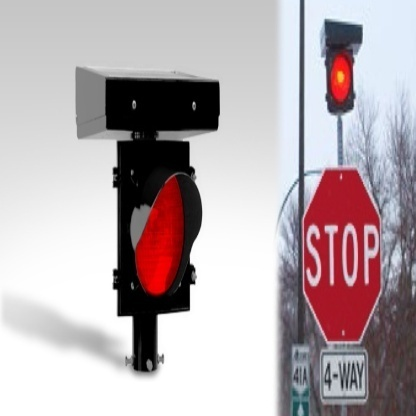stop: (304, 169, 381, 344)
